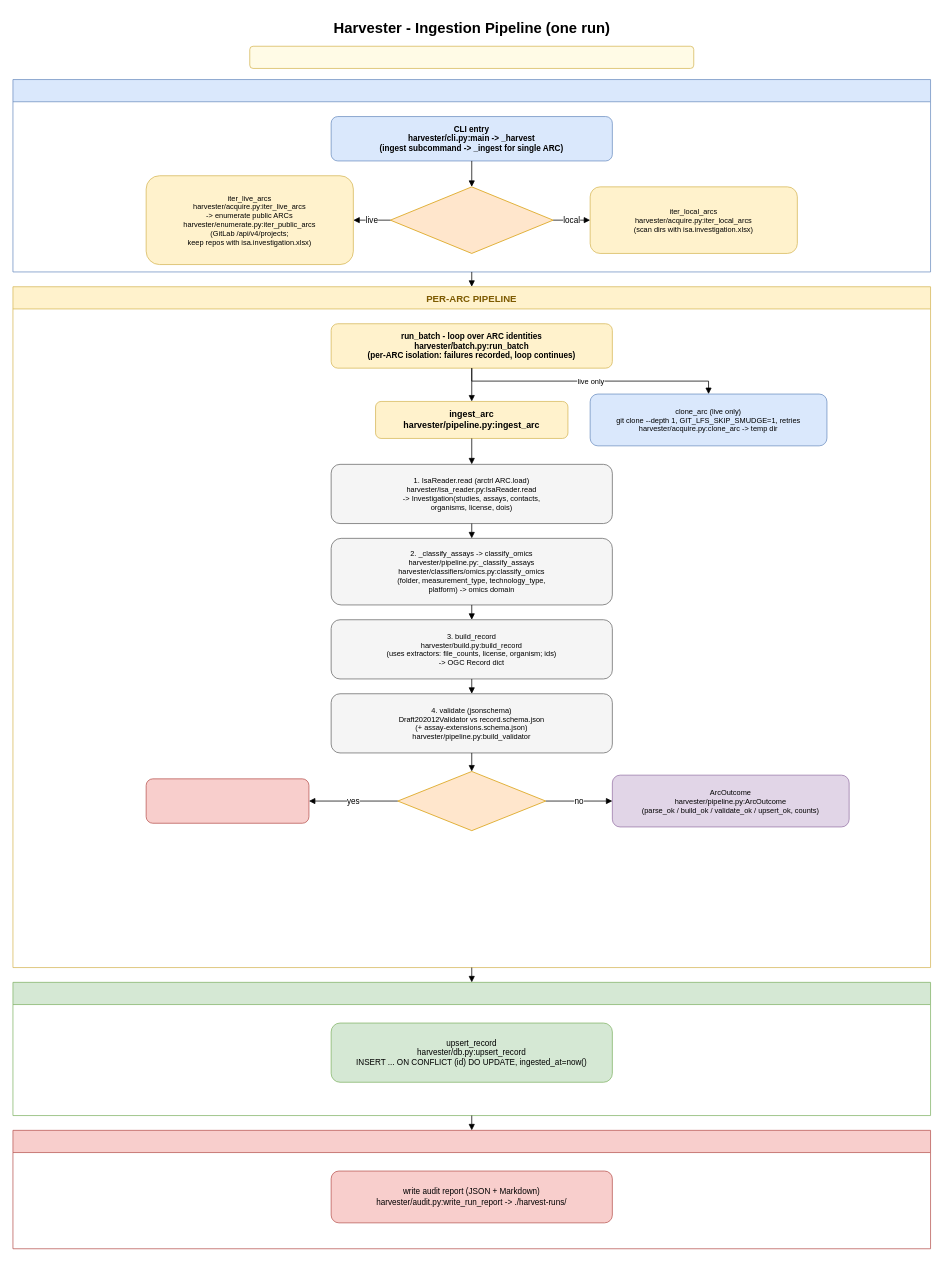
Some shapes in this 944 by 1262 pixel diagram are drawn without their labels. The box of each missing label's shape, as (x1, y1, x2, y2) in pixels:
--dry-run => conn=None (validate only). Live nightly CI runs --dry-run today.: (249, 46, 694, 68)
--source live vs --local-dir?: (390, 186, 553, 253)
conn (DB connection) is None? (dry-run): (397, 771, 546, 831)
DISCOVERY: (12, 79, 931, 272)
PERSISTENCE: (12, 982, 931, 1116)
REPORTING: (12, 1130, 931, 1249)
Stop after validate (no DB writes): (145, 778, 309, 823)
